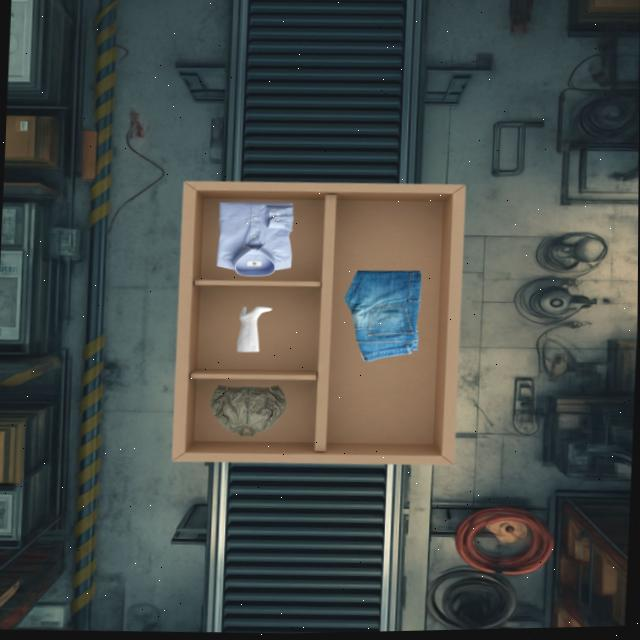boot: (237, 306, 272, 351)
jacket: (211, 385, 285, 436)
shirt: (216, 202, 293, 276)
trousers: (344, 270, 420, 361)
